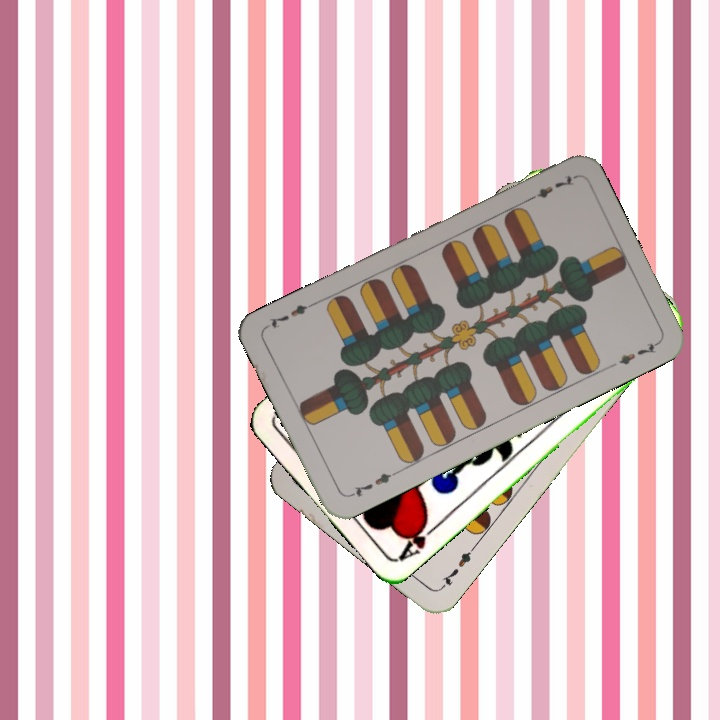E7: (436, 542, 479, 592), (522, 171, 578, 205), (344, 467, 400, 500)
HA: (395, 514, 444, 563)
